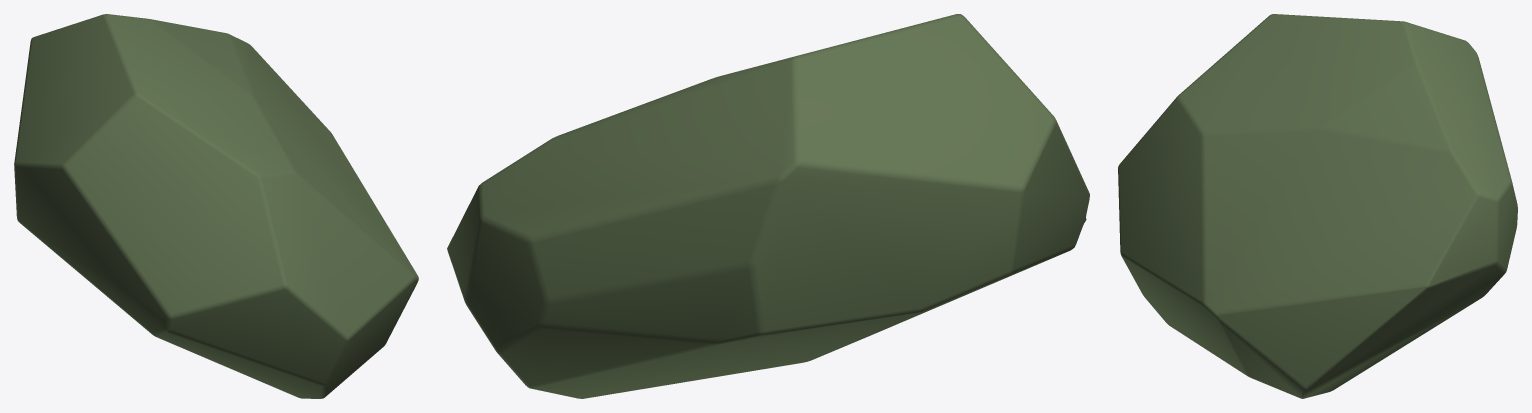
The model's file is Stone_2_3.FBX.
3 renders of one model, left to right at view 1: azimuth 30°, elevation 25°; view 2: azimuth 150°, elevation 25°; view 3: azimuth 270°, elevation 25°, orthographic. The views are drawn at different scales.
Visible parts, largest first — view 1: Object002; view 2: Object002; view 3: Object002.
Boxes of the visible parts, x1,y1,x2,y2 form: Object002: [14, 14, 418, 398]; Object002: [447, 14, 1089, 398]; Object002: [1118, 14, 1517, 398].
Bounding box in the file's own units: 121 × 103 × 131.
